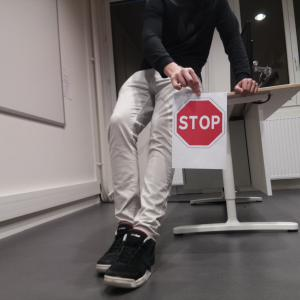stop: (175, 98, 225, 148)
